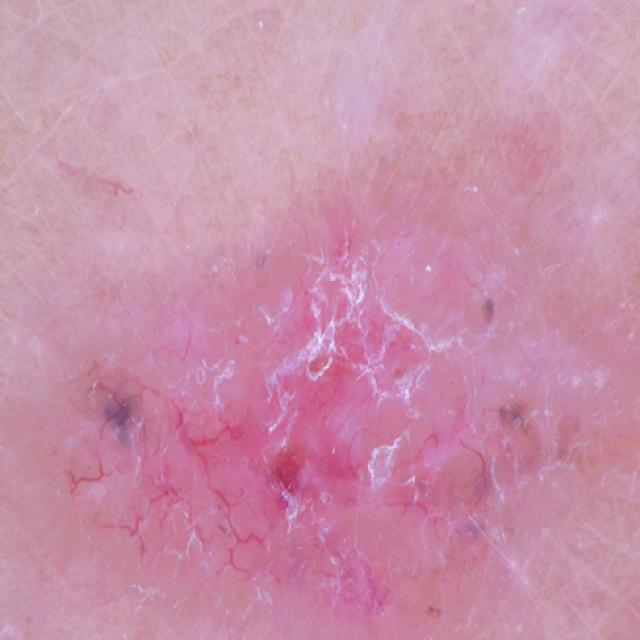Carcinoma: (63, 205, 607, 640)
